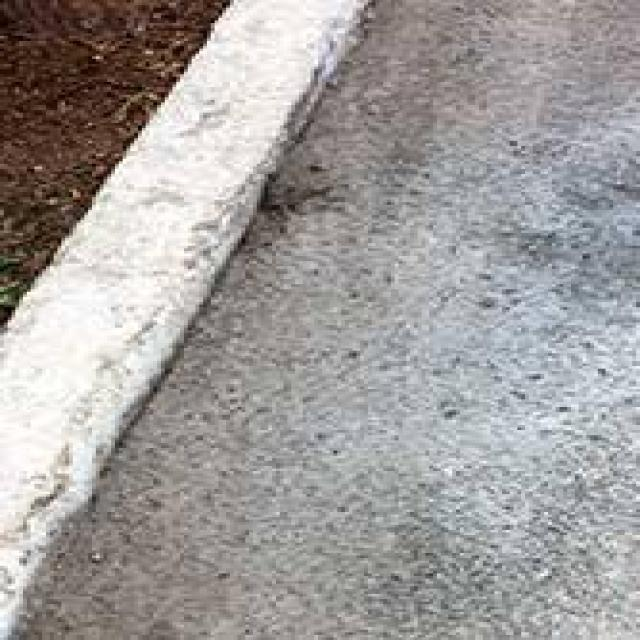curb: (1, 1, 387, 640)
